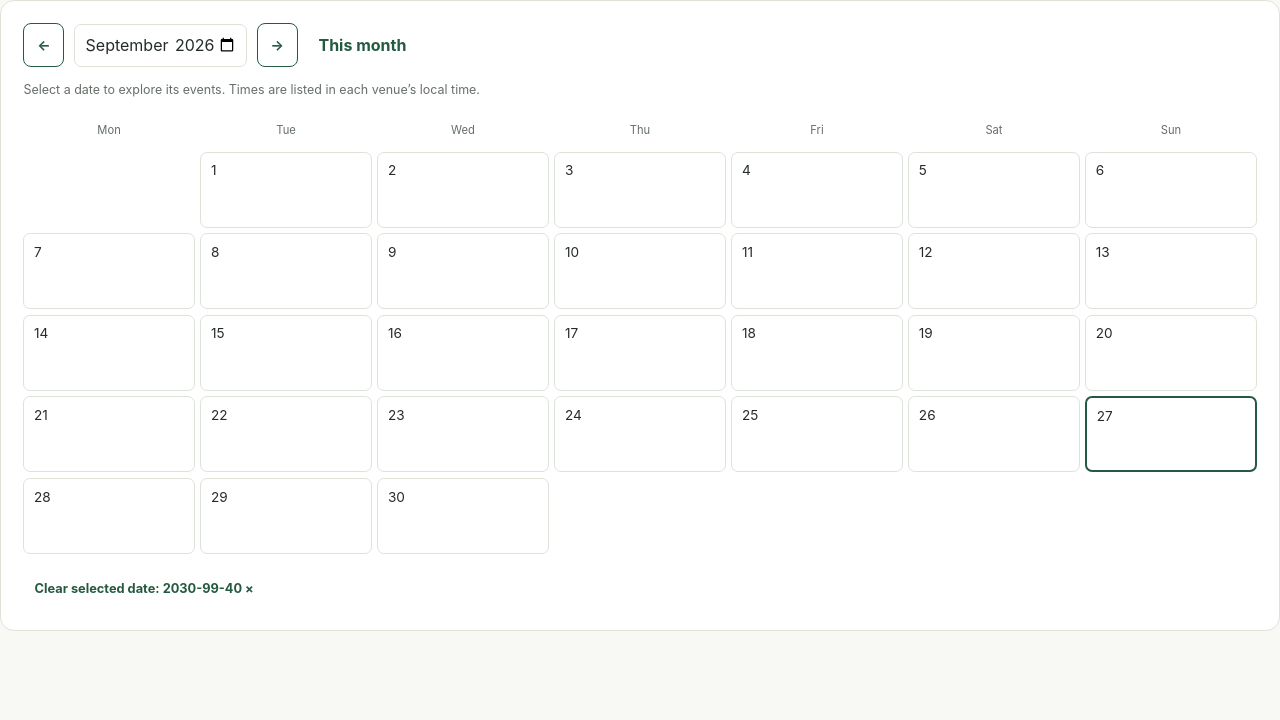
Test: an invalid selected date leaves the calendar navigable
This screenshot has width=1280, height=720.
Replace the text in the field named "Calendar month" with "2032-02" at (160, 45), box [74,24,247,67]
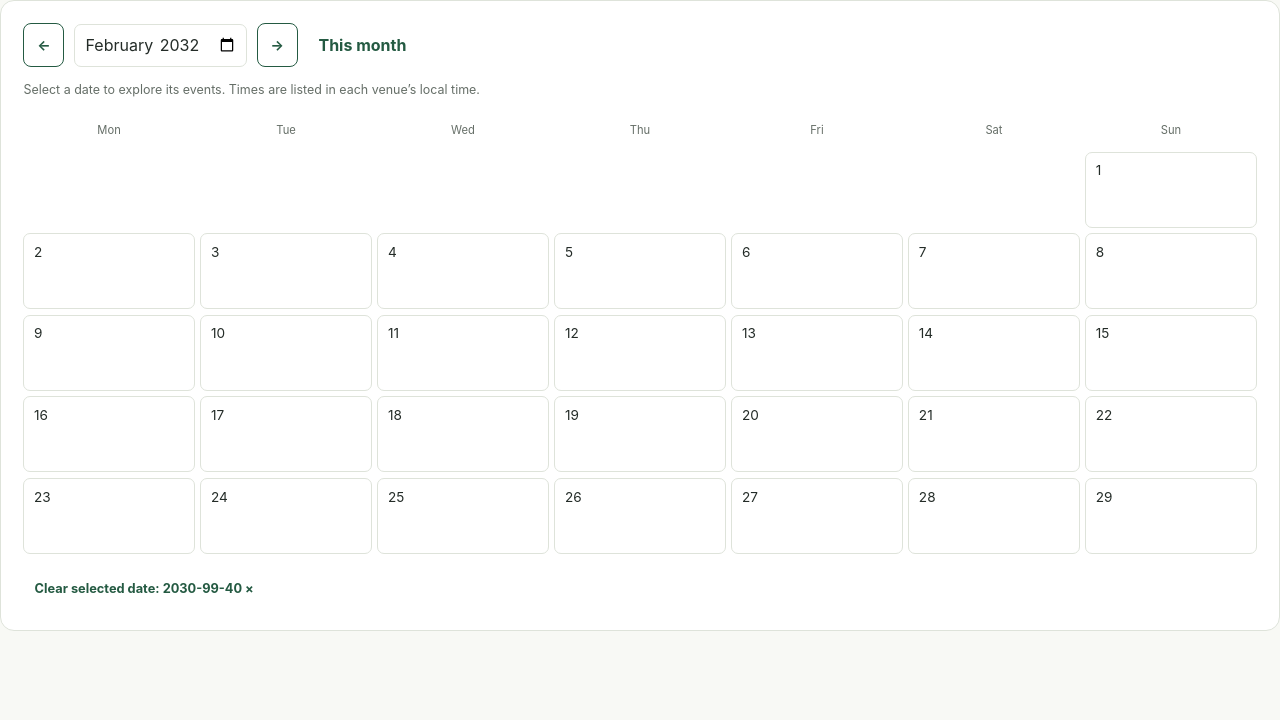
expect the button named "2032-02-29, 0 events" is shown: met, box [1085,478,1257,554]
Click the button named "Next month" at (277, 45), box [257,23,298,67]
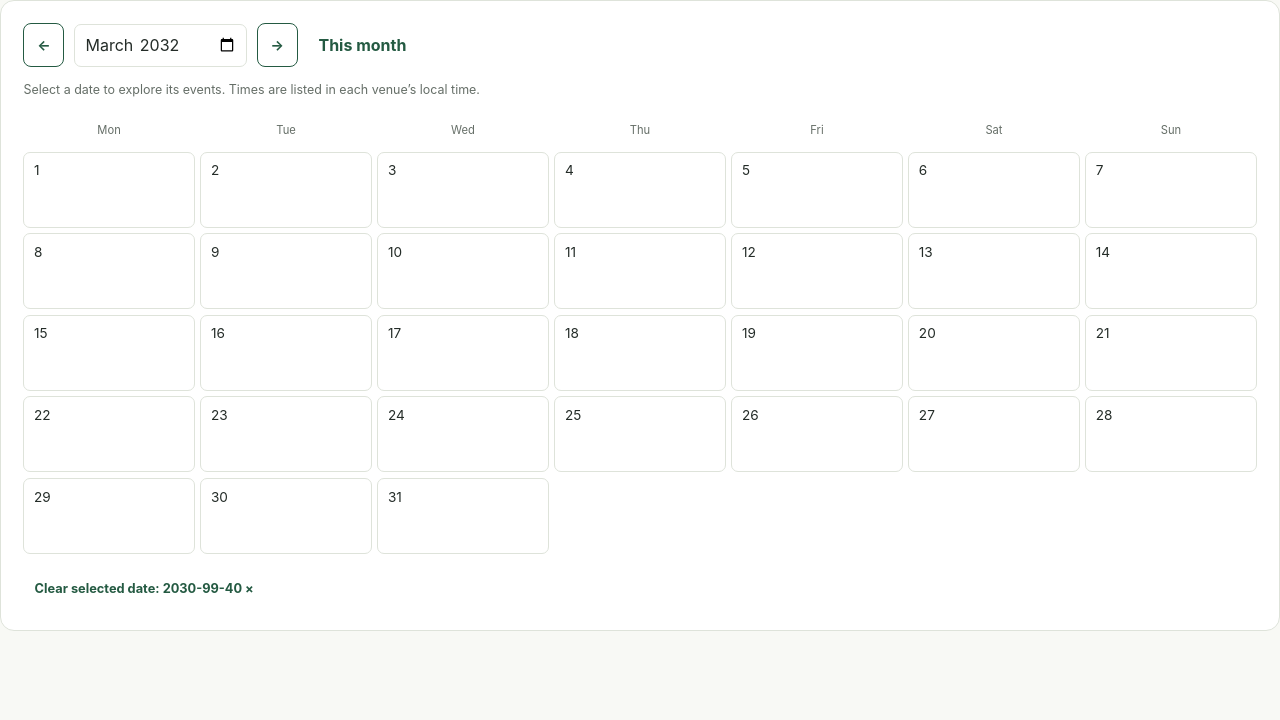
expect the field named "Calendar month" holds "2032-03": met, box [74,24,247,67]
